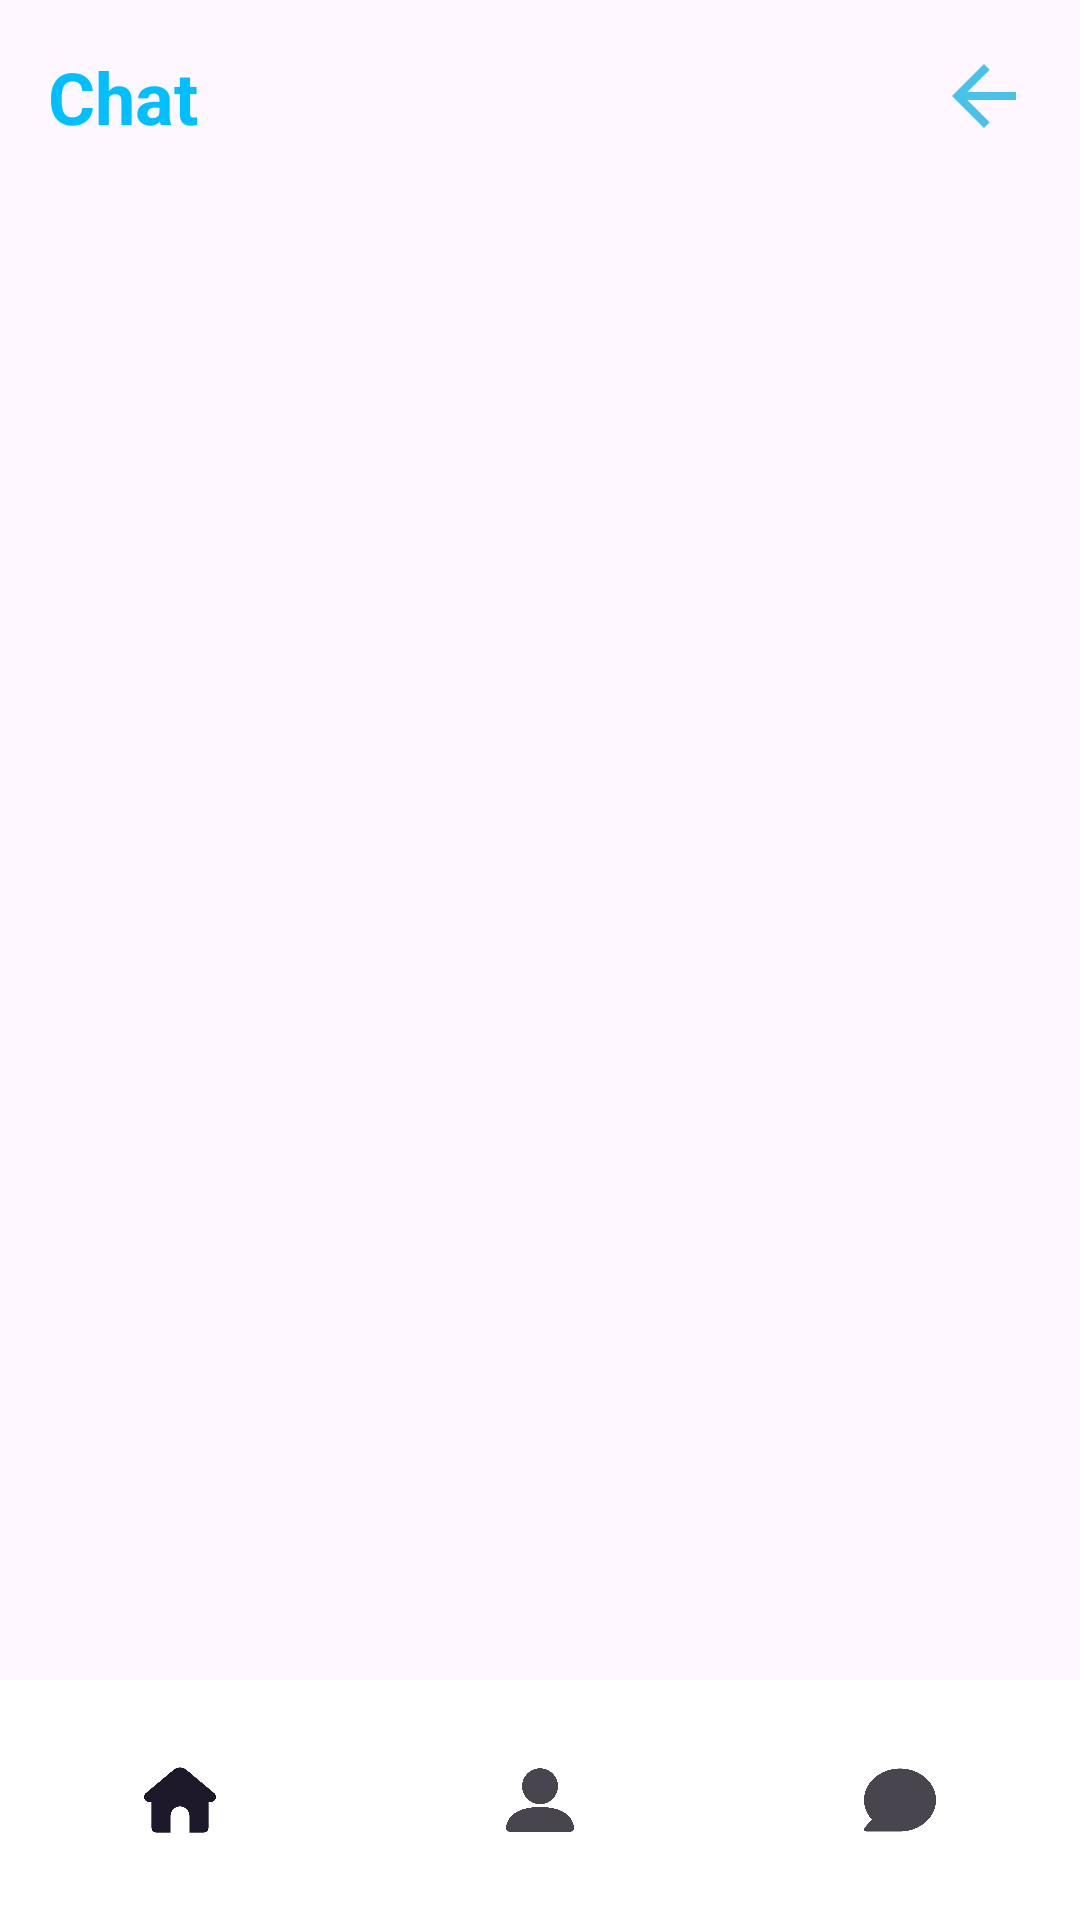

Icon bounding boxes for this 1080w x 1920h phone screenshot, format (left=x1, top=y1, right=x2, bottom=y2):
arrow back: (left=952, top=64, right=1016, bottom=128)
